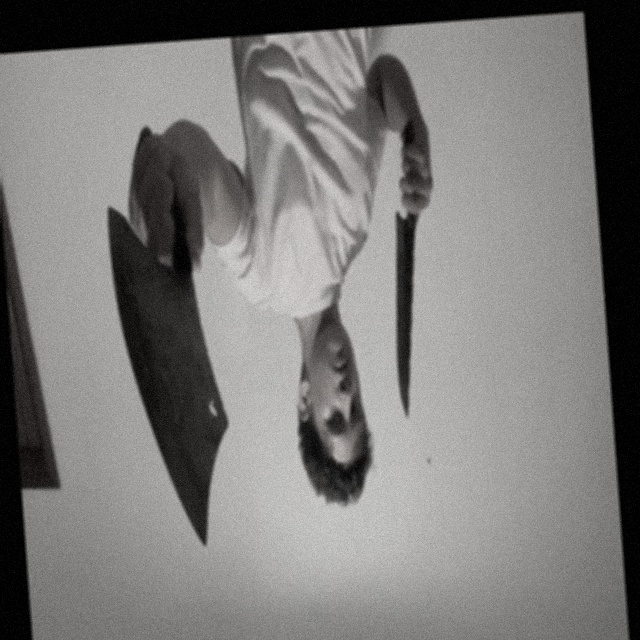Sharp-Object: (105, 198, 238, 552), (384, 210, 429, 419)
